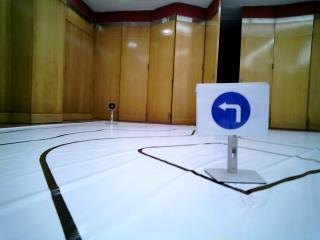left: (194, 82, 272, 130)
